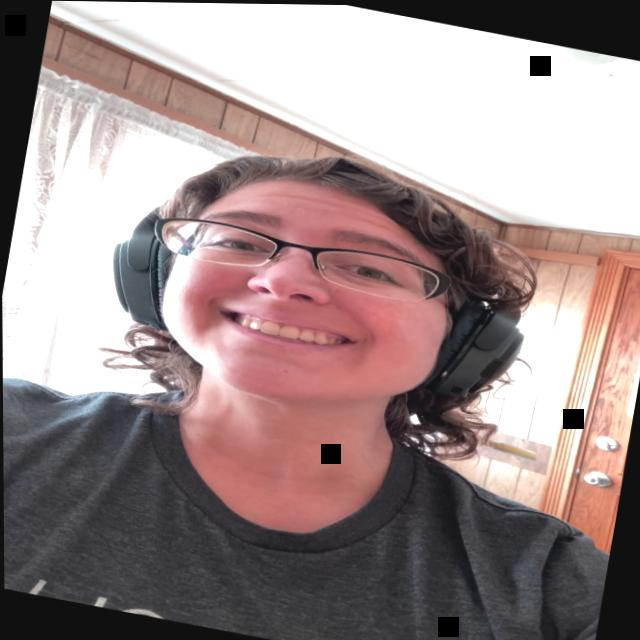NO-Mask: (149, 155, 477, 432)
